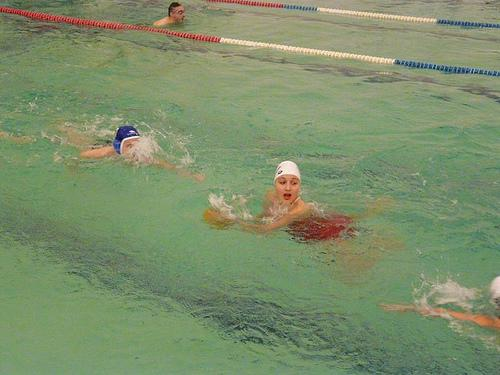human: (214, 157, 364, 249), (66, 122, 194, 177), (153, 3, 186, 25)
